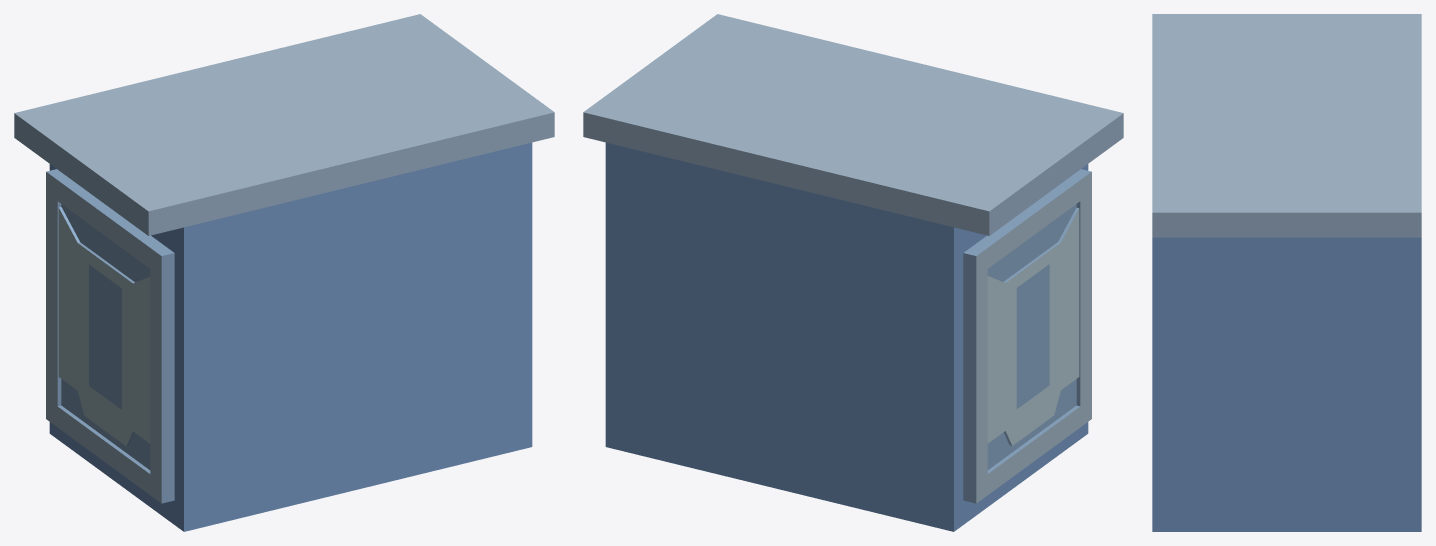
Rendered from Kitchen_Table_01.fbx.
3 renders of one model, left to right at view 1: azimuth 30°, elevation 25°; view 2: azimuth 150°, elevation 25°; view 3: azimuth 270°, elevation 25°, orthographic.
Parts seen in each view (by area): view 1: Kitchen_Table_01; view 2: Kitchen_Table_01; view 3: Kitchen_Table_01.
Boxes of the visible parts, x1=… form: Kitchen_Table_01: x1=14, y1=14, x2=554, y2=531; Kitchen_Table_01: x1=583, y1=14, x2=1123, y2=531; Kitchen_Table_01: x1=1152, y1=14, x2=1421, y2=531.
Size of the model in its own units: 119 by 91.86 by 67.93.
1 material, 1 textured.
